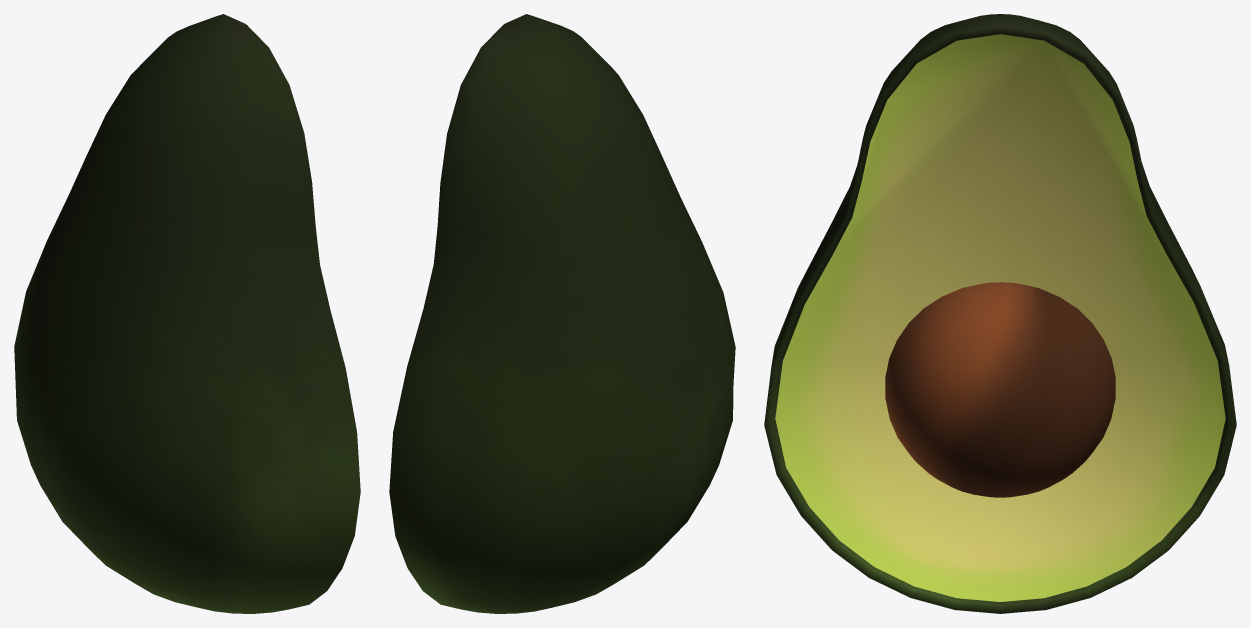
Rendered from Avocado.glb.
3 views of the same model, side by side, from view 1: azimuth 30°, elevation 25°; view 2: azimuth 150°, elevation 25°; view 3: azimuth 270°, elevation 25° (orthographic). The views are drawn at different scales.
Parts seen in each view (by area): view 1: mi; view 2: mi; view 3: mi, tane.
Boxes of the visible parts, bbox=[...] form: mi: bbox=[14, 14, 360, 613]; mi: bbox=[389, 14, 735, 613]; mi: bbox=[764, 14, 1236, 613]; tane: bbox=[885, 282, 1115, 497].
Size of the model in its own units: 1.32 by 2.59 by 1.89.
1 material, 1 textured.
